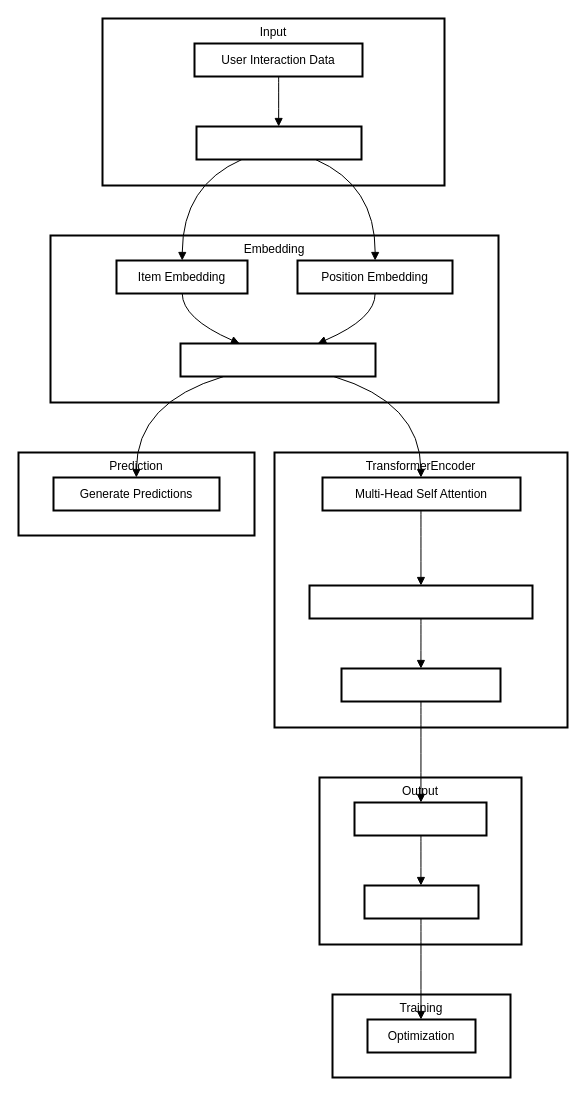
Some shapes in this 585 by 1095 pixel diagram are drawn without their labels. Each missing label, with the box of its shape:
Compute Loss: (363, 884, 479, 919)
Concatenate Embeddings: (179, 342, 376, 377)
Feedforward Neural Network: (308, 584, 533, 619)
Generate Scores: (353, 801, 487, 836)
Layer Normalization: (340, 667, 501, 702)
Preprocess Sequence: (195, 125, 362, 160)
